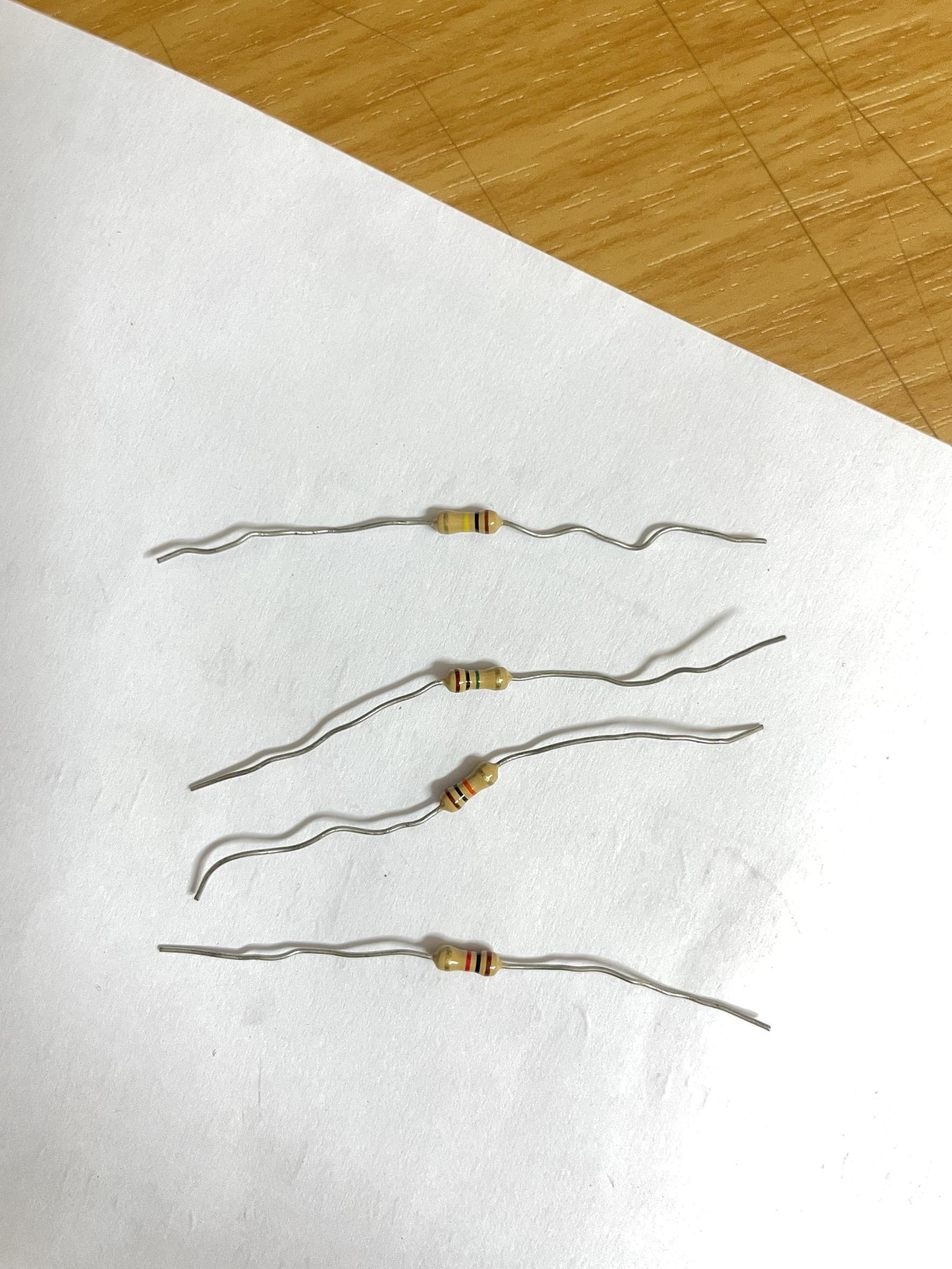resistor: (428, 743, 501, 814), (422, 499, 497, 535), (440, 657, 515, 691), (428, 938, 503, 972)
